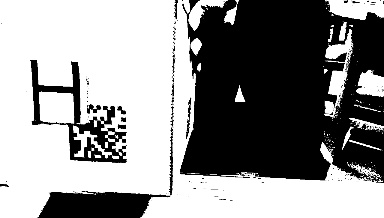H: (19, 55, 88, 125)
